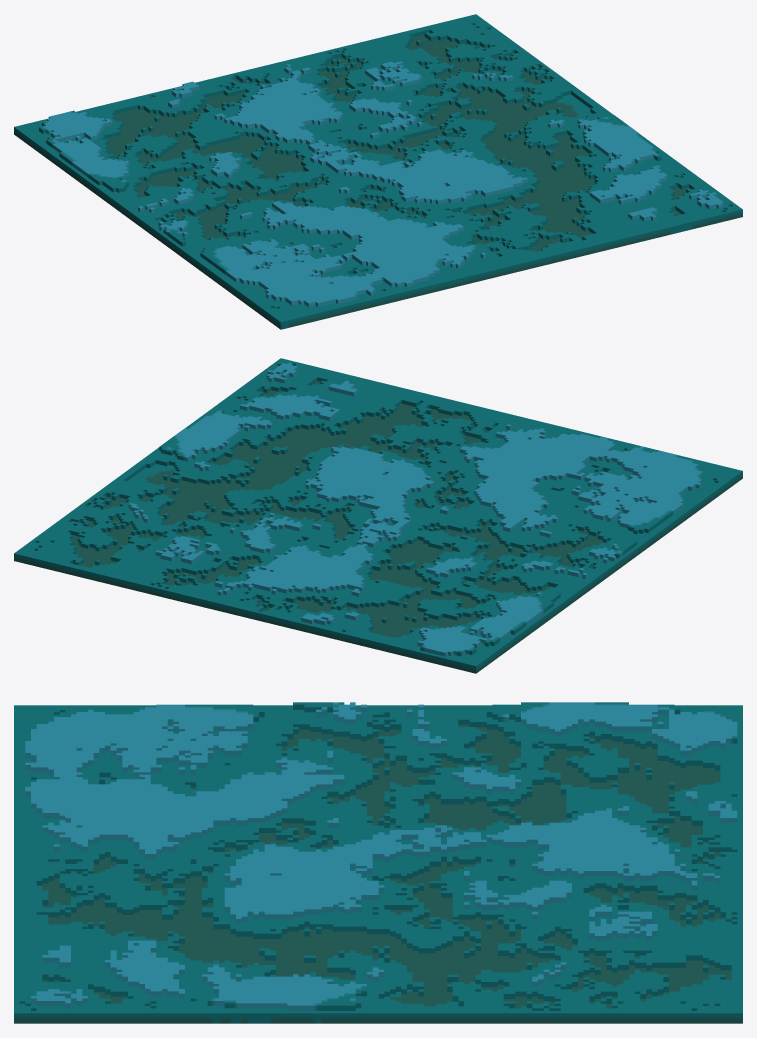
File: floortile_teal.fbx
The picture shows the model from 3 angles, top to bottom: view 1: azimuth 30°, elevation 25°; view 2: azimuth 150°, elevation 25°; view 3: azimuth 270°, elevation 25°; orthographic projection. The views are drawn at different scales.
Parts seen in each view (by area): view 1: floortile_teal; view 2: floortile_teal; view 3: floortile_teal.
Boxes of the visible parts, left/top/right/bottom form: floortile_teal: left=14, top=14, right=742, bottom=329; floortile_teal: left=14, top=358, right=742, bottom=673; floortile_teal: left=14, top=702, right=742, bottom=1023.
Bounding box in the file's own units: 128 × 3 × 128.
1 material, 1 textured.
